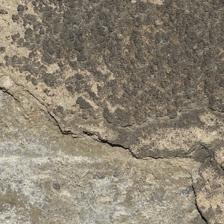Crack: (55, 51, 138, 162), (126, 0, 197, 47)
